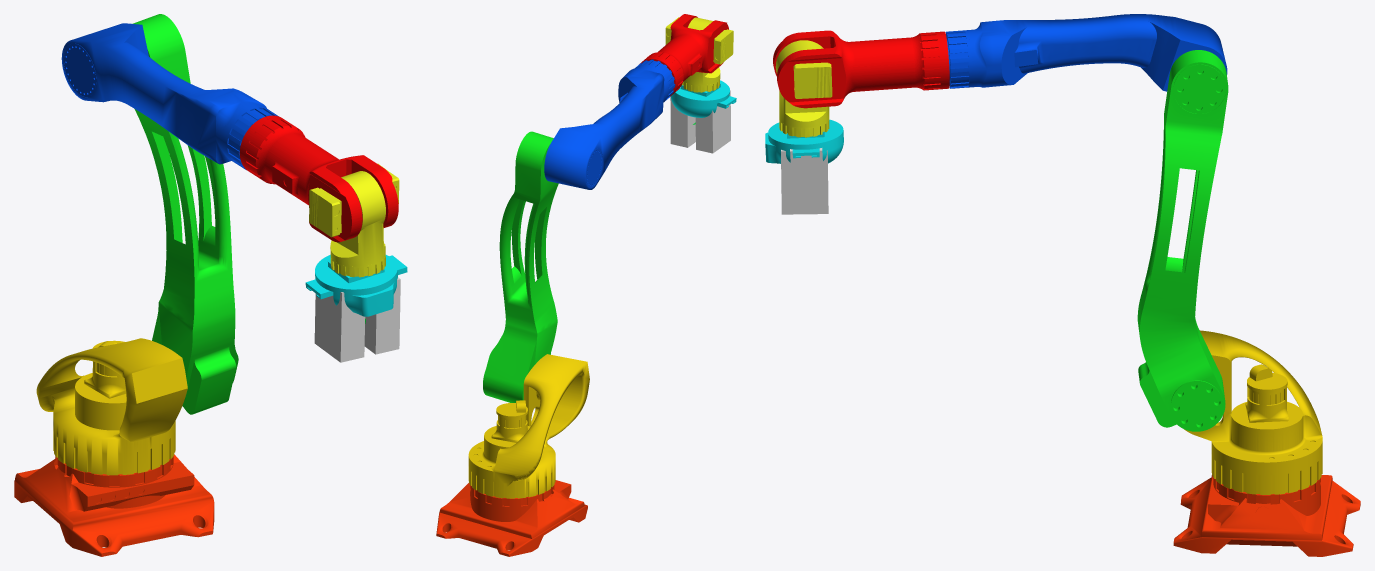
The model's file is robot.fbx.
The picture shows the model from 3 angles, left to right: view 1: azimuth 30°, elevation 25°; view 2: azimuth 150°, elevation 25°; view 3: azimuth 270°, elevation 25°; orthographic projection. The views are drawn at different scales.
Visible parts, largest first — view 1: ARM_firstArm_ConvexHull, ARM_rotating_base_ConvexHull, ARM_FixBase_ConvexHull, ARM_secondArm_ConvexHull, ARM_secondArm2_ConvexHull, ARM_orientaionAxis1_ConvexHull, ARM_orientaionAxis2_ConvexHull, hidden_Box001, hidden_Box002; view 2: ARM_firstArm_ConvexHull, ARM_rotating_base_ConvexHull, ARM_secondArm_ConvexHull, ARM_FixBase_ConvexHull, ARM_secondArm2_ConvexHull, ARM_orientaionAxis2_ConvexHull, hidden_Box001, hidden_Box002, ARM_orientaionAxis1_ConvexHull; view 3: ARM_firstArm_ConvexHull, ARM_secondArm_ConvexHull, ARM_rotating_base_ConvexHull, ARM_FixBase_ConvexHull, ARM_secondArm2_ConvexHull, hidden_Box002, ARM_orientaionAxis2_ConvexHull, ARM_orientaionAxis1_ConvexHull.
Part boxes in pixels (box(x1,y1,x2,y2)): ARM_firstArm_ConvexHull: box(132, 14, 238, 414); ARM_rotating_base_ConvexHull: box(36, 338, 187, 475); ARM_FixBase_ConvexHull: box(14, 454, 214, 556); ARM_secondArm_ConvexHull: box(61, 23, 278, 170); ARM_secondArm2_ConvexHull: box(239, 115, 399, 242); ARM_orientaionAxis1_ConvexHull: box(330, 171, 385, 277); ARM_orientaionAxis2_ConvexHull: box(305, 254, 407, 316); hidden_Box001: box(314, 292, 365, 362); hidden_Box002: box(364, 277, 400, 354); ARM_firstArm_ConvexHull: box(483, 131, 558, 402); ARM_rotating_base_ConvexHull: box(468, 354, 589, 498); ARM_secondArm_ConvexHull: box(544, 59, 675, 189); ARM_FixBase_ConvexHull: box(436, 480, 587, 556); ARM_secondArm2_ConvexHull: box(639, 14, 733, 96); ARM_orientaionAxis2_ConvexHull: box(671, 80, 736, 117); hidden_Box001: box(695, 90, 730, 153); hidden_Box002: box(670, 96, 695, 147); ARM_orientaionAxis1_ConvexHull: box(682, 17, 720, 92); ARM_firstArm_ConvexHull: box(1137, 50, 1228, 431); ARM_secondArm_ConvexHull: box(945, 14, 1227, 91); ARM_rotating_base_ConvexHull: box(1184, 330, 1322, 494); ARM_FixBase_ConvexHull: box(1173, 475, 1360, 556); ARM_secondArm2_ConvexHull: box(773, 30, 949, 108); hidden_Box002: box(781, 148, 828, 214); ARM_orientaionAxis2_ConvexHull: box(765, 119, 843, 163); ARM_orientaionAxis1_ConvexHull: box(775, 40, 829, 137).
Size of the model in its own units: 1.05 by 3.98 by 3.55.
